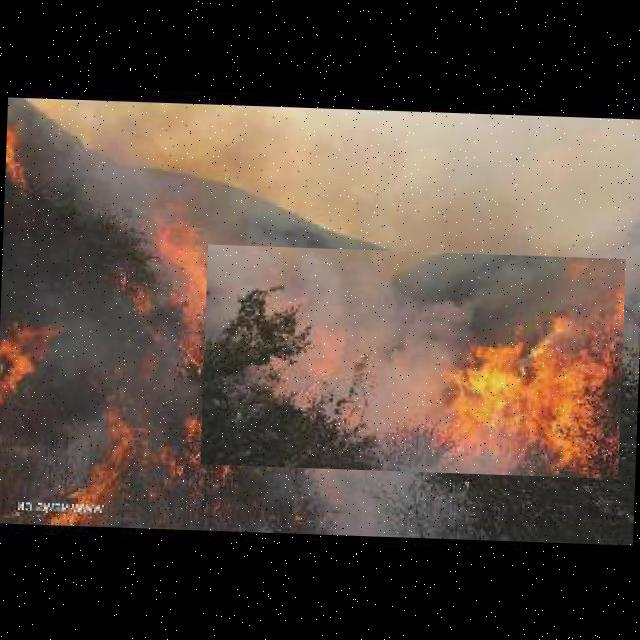fire: (200, 244, 625, 478)
